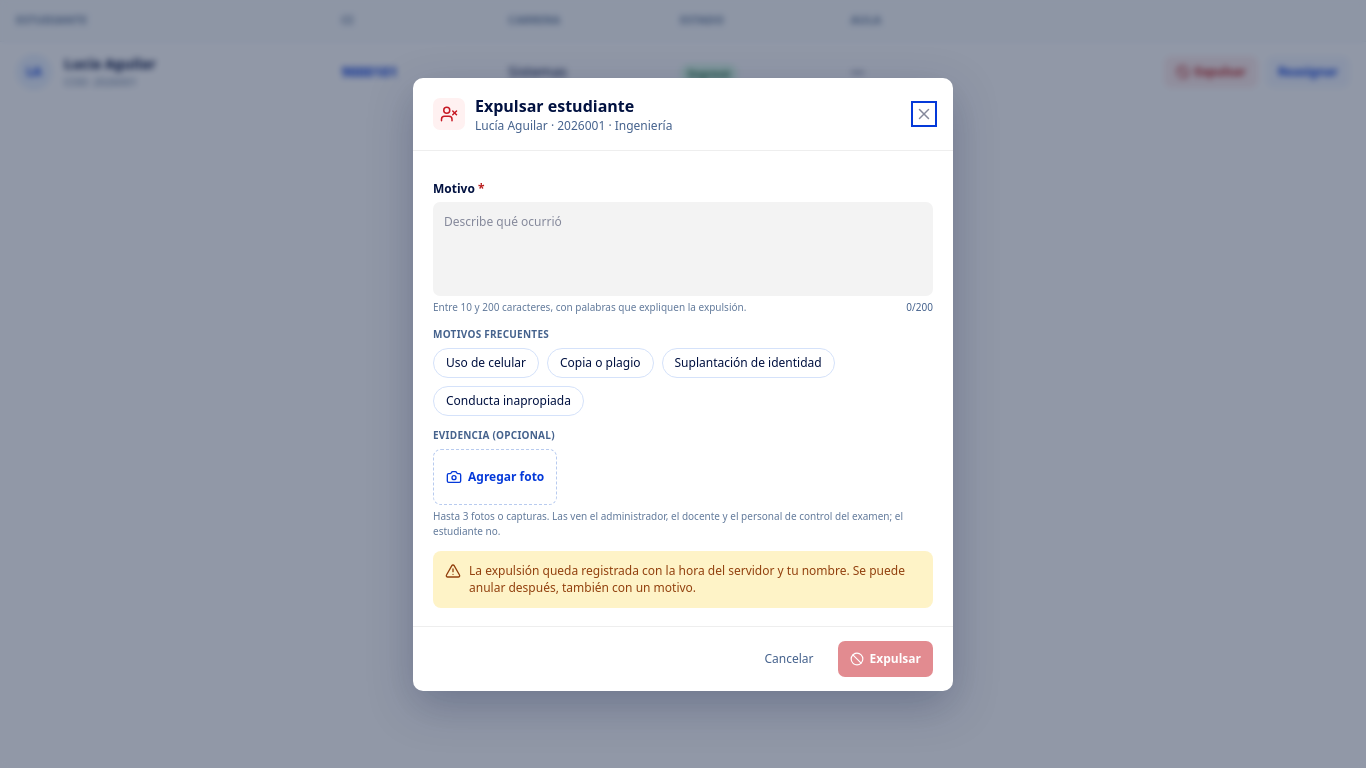
vista 1: confirma auditoría válida y conserva el bloqueo hasta cerrar
Earlier steps of the test are not shown.
In the text box: point(683, 248) top-left (433, 202), bottom-right (933, 296), type "Uso de celular"
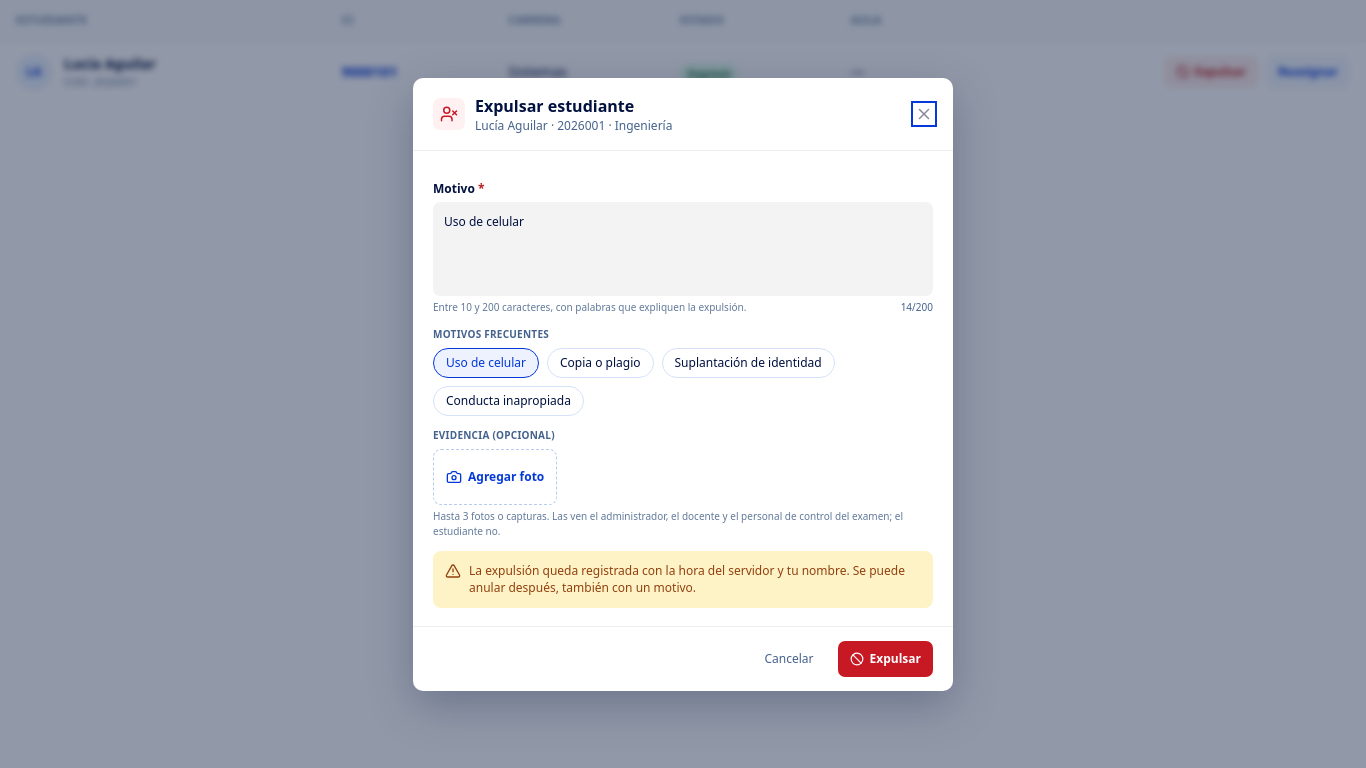
Submit the form, box top-left (413, 78), bottom-right (953, 690)
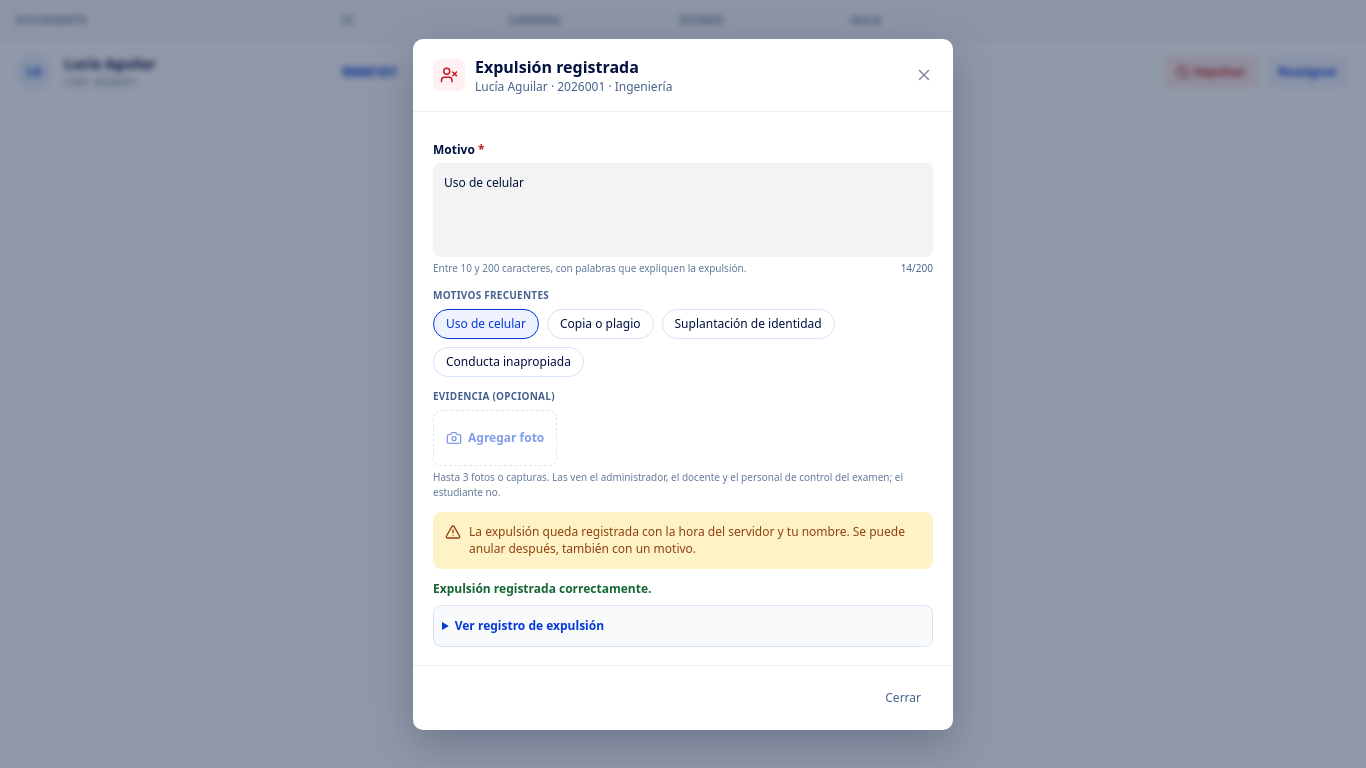
Now the message reads "Expulsión registrada correctamente.", box top-left (433, 580), bottom-right (652, 596)
Click the heading "Ver registro de expulsión": point(529, 625) top-left (455, 616), bottom-right (604, 634)
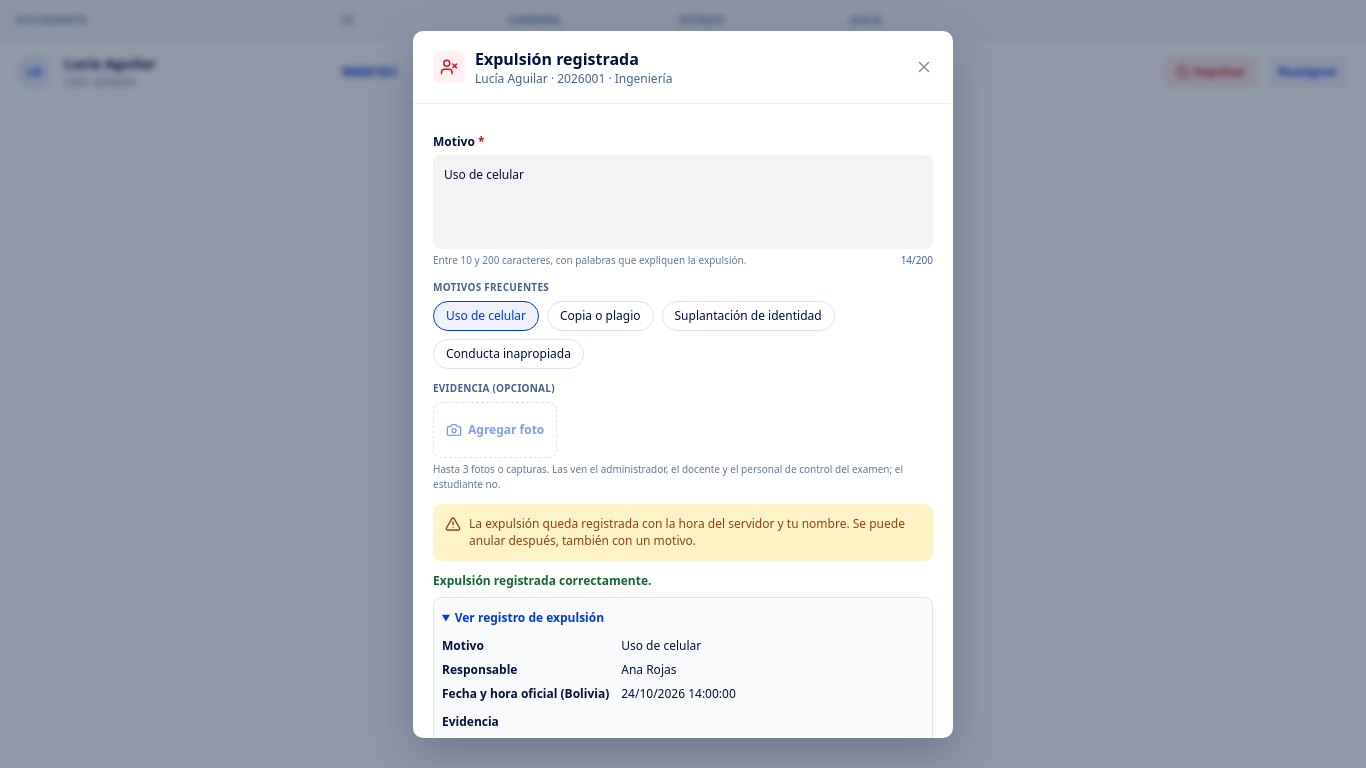
Now the text box is disabled, box top-left (433, 155), bottom-right (933, 249)
Now the text "Ana Rojas" is shown, box top-left (621, 661), bottom-right (676, 678)
Now the text "24/10/2026 14:00:00" is shown, box top-left (621, 685), bottom-right (736, 702)
Submit the form, box top-left (413, 31), bottom-right (953, 737)
(page scrolled)
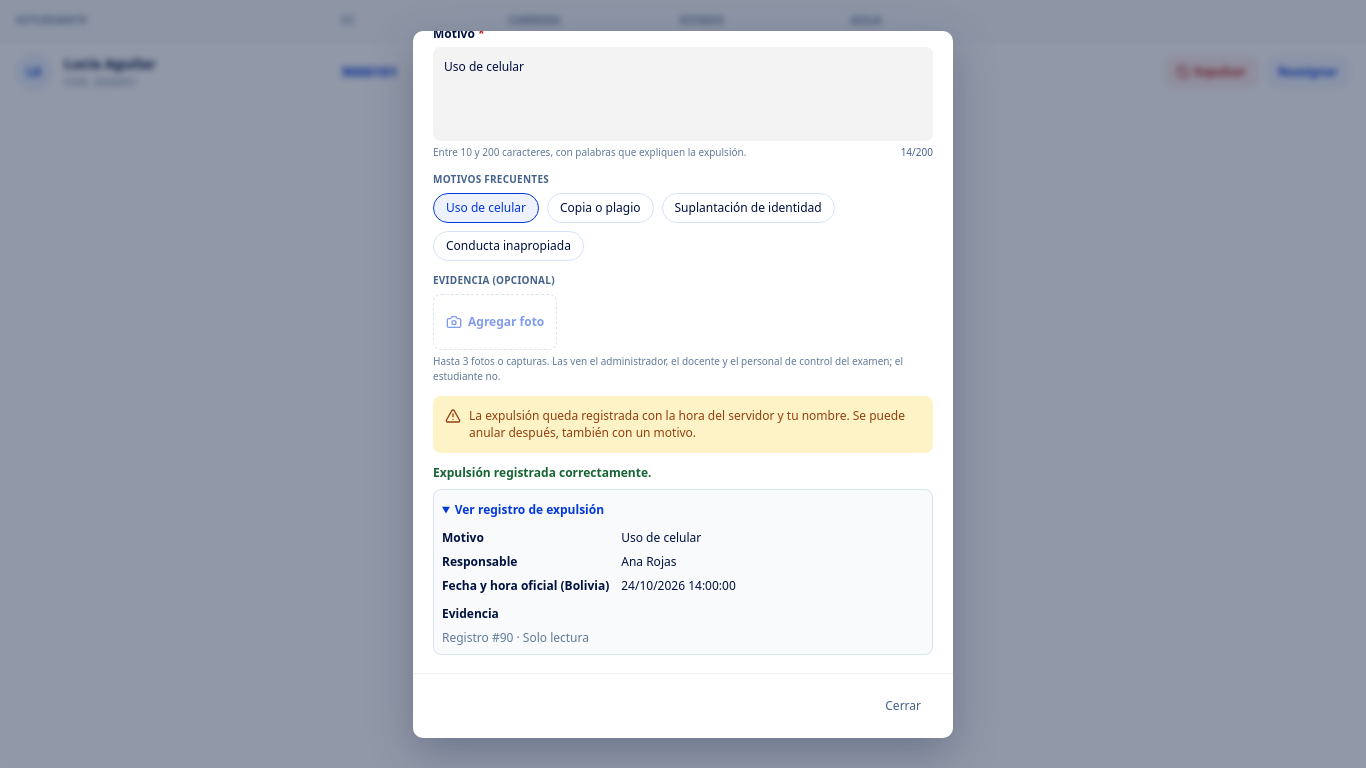
Click the button "Cerrar": point(903, 706) top-left (873, 688), bottom-right (933, 724)
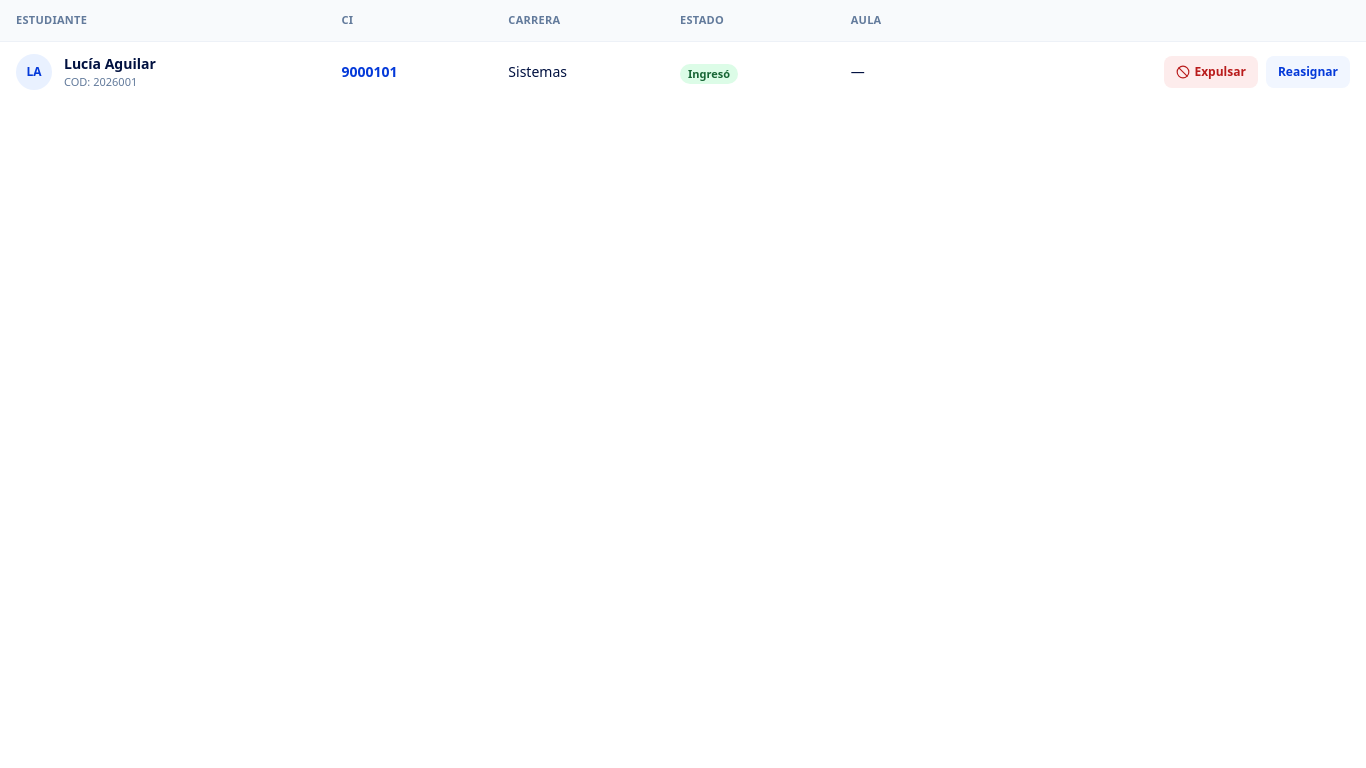
Now the dialog is gone
